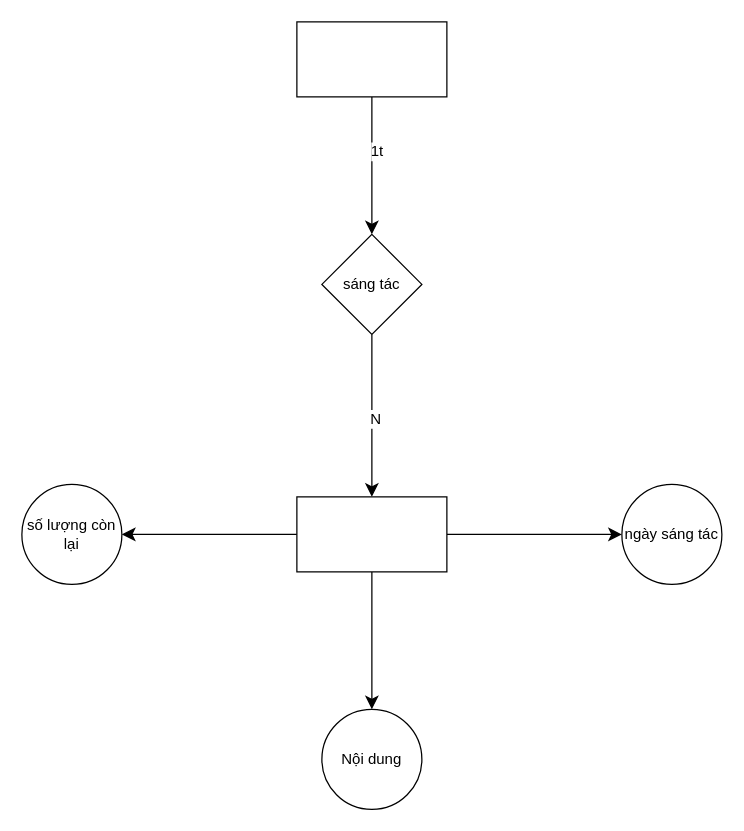
Image size: 744x831. Some labels were removed from this diagram. The shapes that lost their labels are listed below. From the top down, each one's box as (x1, y1, x2, y2) in pixels, then its label:
(296, 21, 447, 97): AUTHORS
(296, 496, 447, 572): BOOKS
